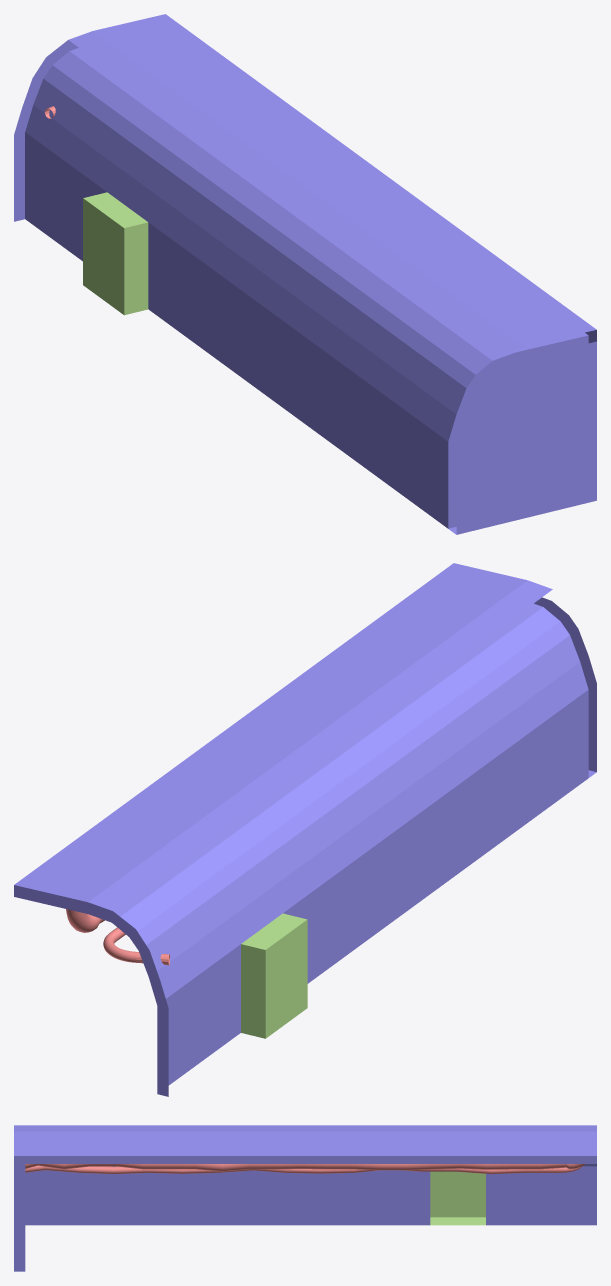
The model's file is Tunnel.FBX.
3 renders of one model, top to bottom at view 1: azimuth 30°, elevation 25°; view 2: azimuth 150°, elevation 25°; view 3: azimuth 270°, elevation 25°, orthographic. The views are drawn at different scales.
Parts seen in each view (by area): view 1: Tunnel; view 2: Tunnel; view 3: Tunnel.
Part boxes in pixels (x1,y1,x2,y2): Tunnel: [14, 14, 596, 534]; Tunnel: [14, 563, 596, 1096]; Tunnel: [14, 1125, 596, 1271].
Size of the model in its own units: 87.65 by 87.35 by 398.
